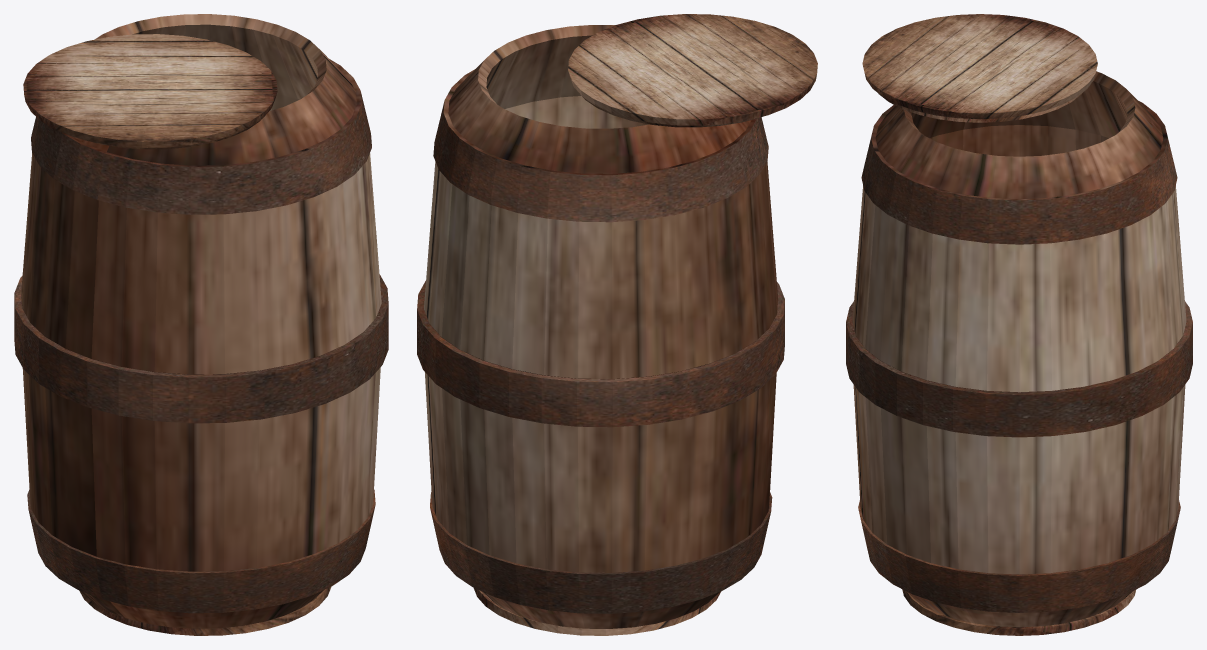
Rendered from BarrelWithOneLid(Wooden).fbx.
3 views of the same model, side by side, from view 1: azimuth 30°, elevation 25°; view 2: azimuth 150°, elevation 25°; view 3: azimuth 270°, elevation 25° (orthographic). The views are drawn at different scales.
Visible parts, largest first — view 1: WoodenBarrel1; view 2: WoodenBarrel1; view 3: WoodenBarrel1.
Part boxes in pixels (left/top/right/bottom): WoodenBarrel1: left=14, top=14, right=388, bottom=635; WoodenBarrel1: left=417, top=14, right=817, bottom=635; WoodenBarrel1: left=846, top=14, right=1192, bottom=635.
Size of the model in its own units: 445 by 651 by 419.
